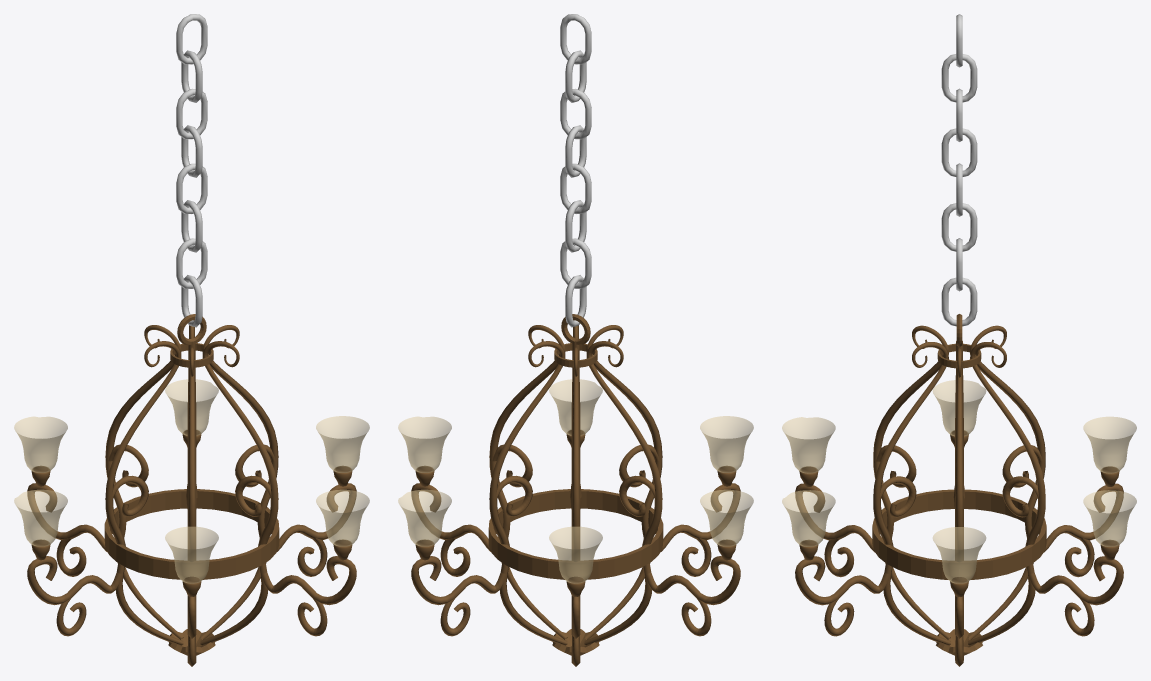
File: Chandelier.fbx
3 renders of one model, left to right at view 1: azimuth 30°, elevation 25°; view 2: azimuth 150°, elevation 25°; view 3: azimuth 270°, elevation 25°, orthographic.
Parts seen in each view (by area): view 1: Chandelier; view 2: Chandelier; view 3: Chandelier.
Boxes of the visible parts, <box> form: Chandelier: <box>14,14,369,666</box>; Chandelier: <box>398,14,753,666</box>; Chandelier: <box>782,14,1136,666</box>.
Size of the model in its own units: 1.7 by 2.99 by 1.51.
